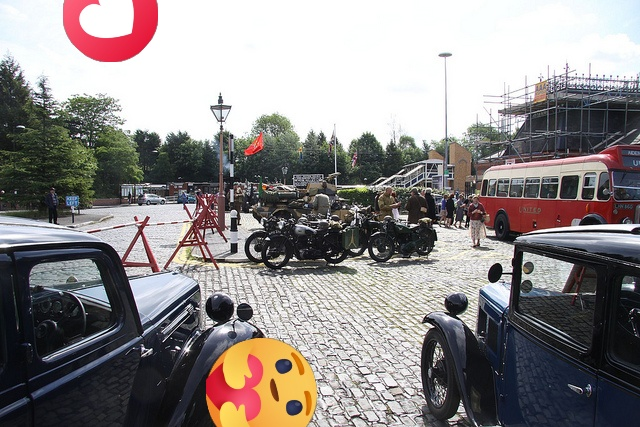care: (206, 338, 317, 427)
love: (63, 0, 158, 62)
